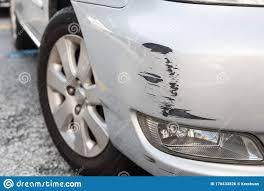front-bumper-dent: (75, 1, 263, 174)
